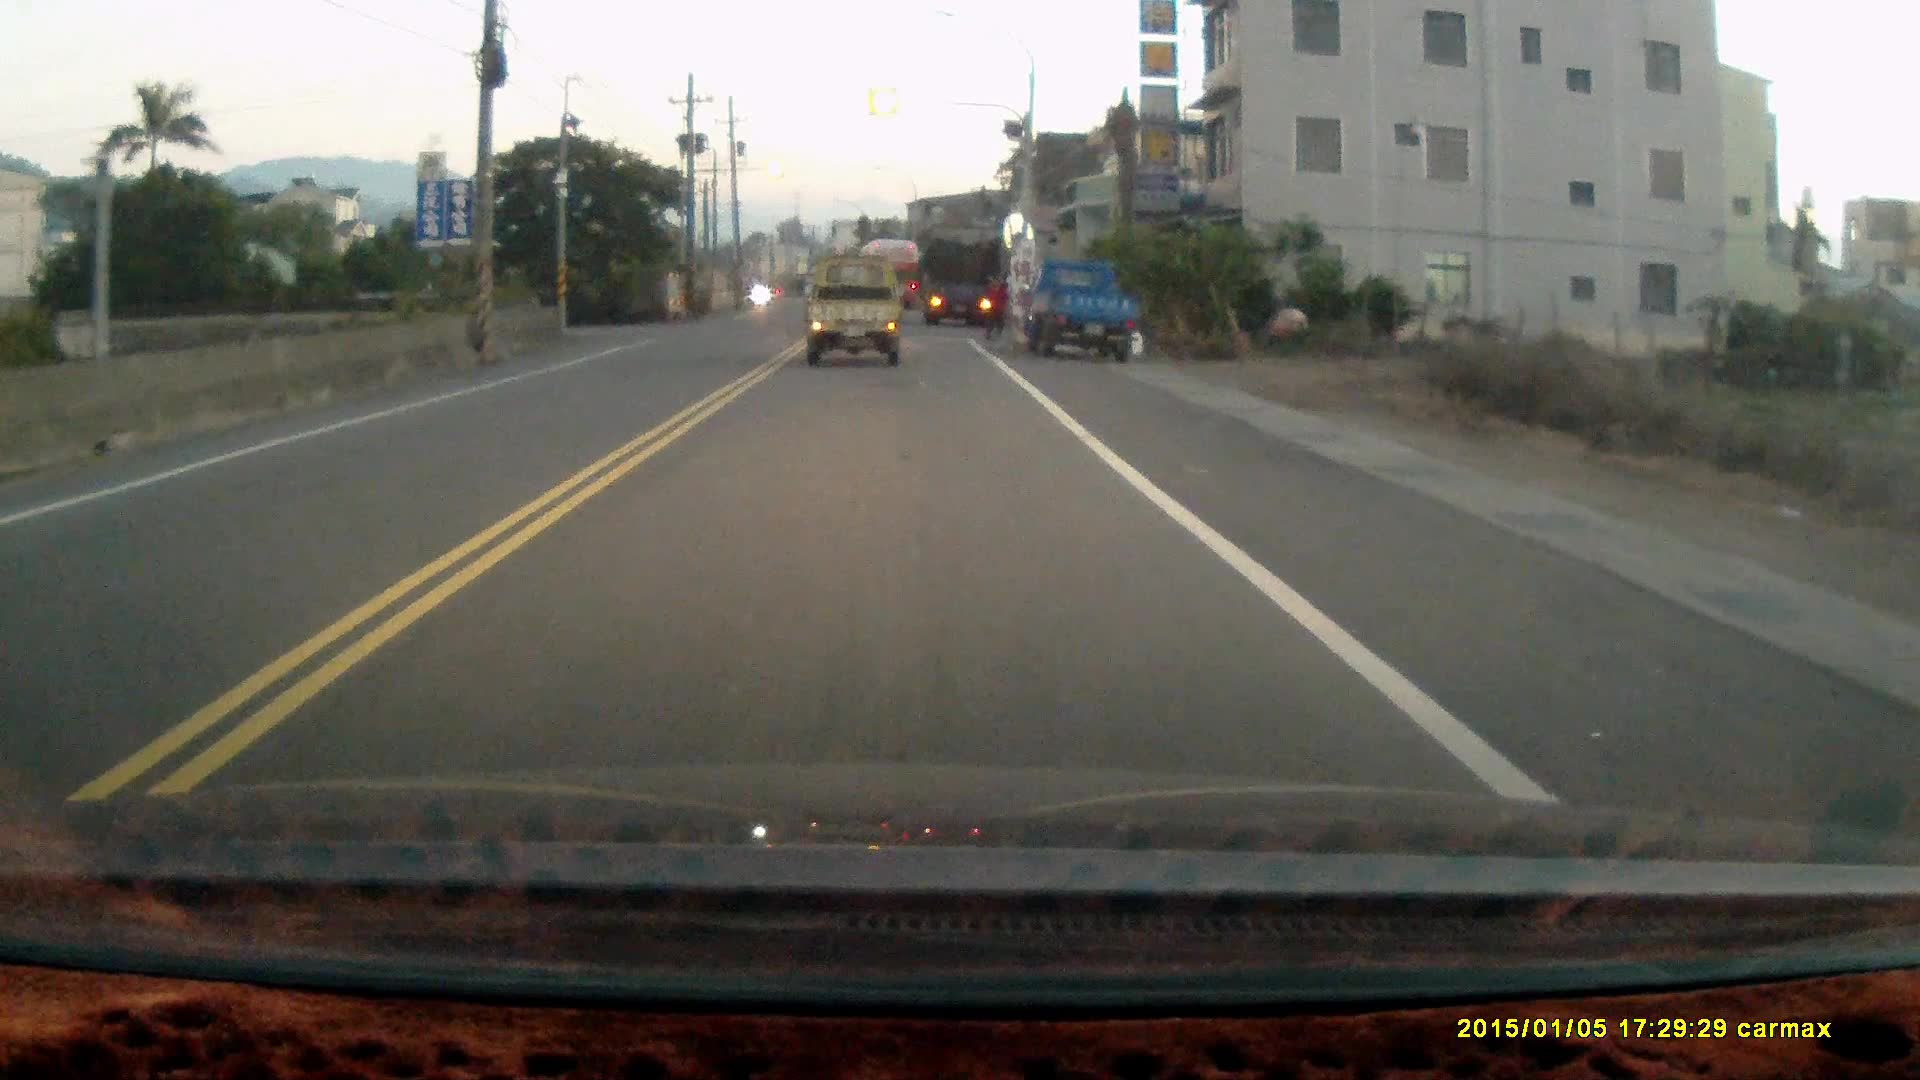pedestrian: (979, 274, 1007, 342)
vehicle: (1018, 260, 1137, 360), (806, 261, 907, 375), (922, 242, 1002, 323)
